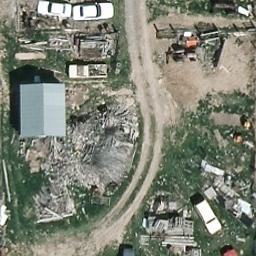car: (192, 198, 224, 235), (38, 0, 73, 18), (73, 4, 113, 19)
pickup: (67, 65, 109, 80)
